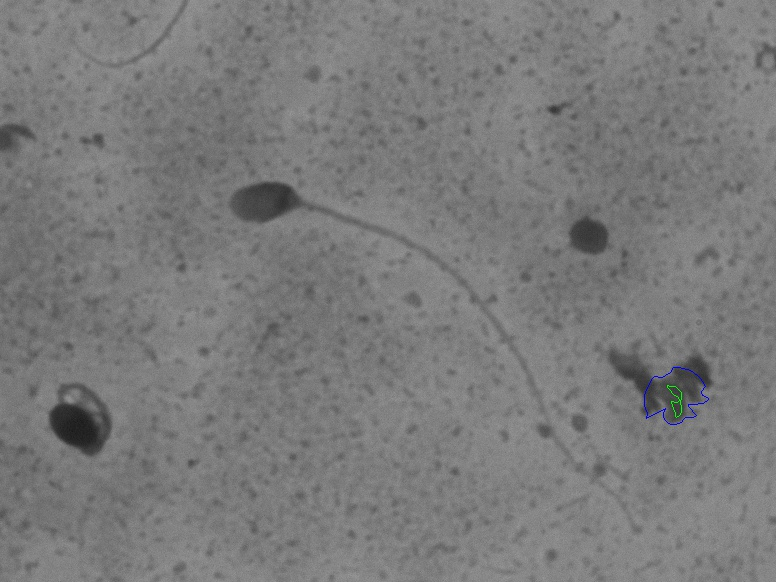Abnormal: (204, 151, 573, 471), (17, 355, 150, 492)
